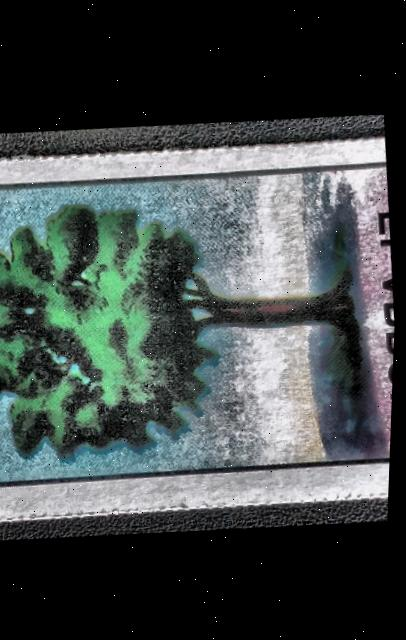El Arbol: (0, 141, 402, 508)
